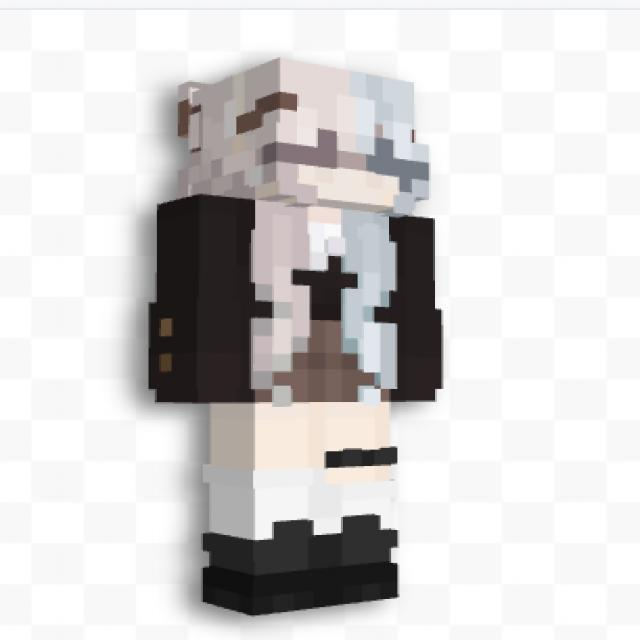Player: (151, 57, 447, 613)
